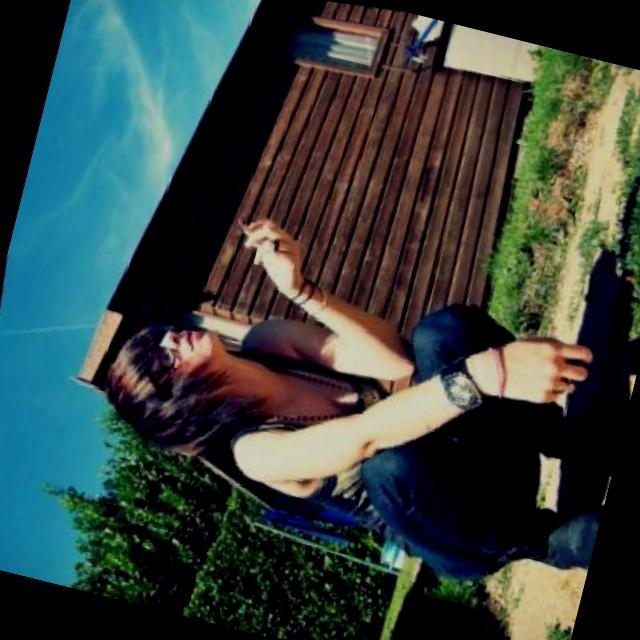cigarette: (216, 208, 339, 316)
